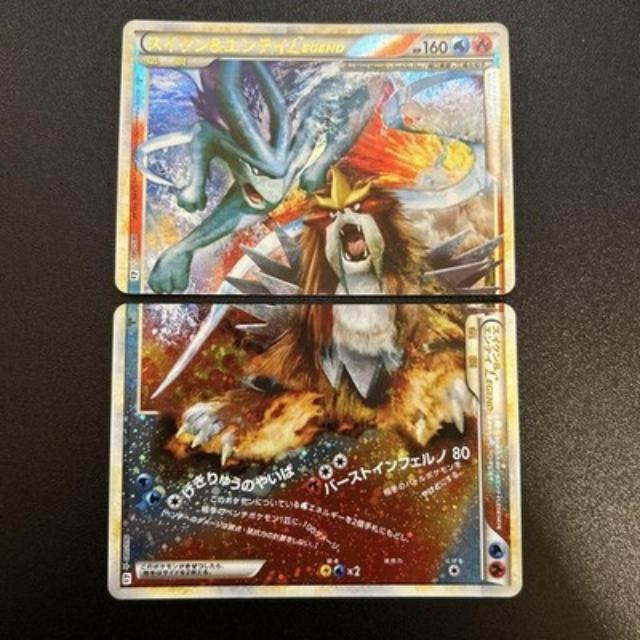Card: (105, 299, 529, 605), (111, 15, 520, 299)
Name: (140, 29, 348, 60), (480, 318, 508, 415)
